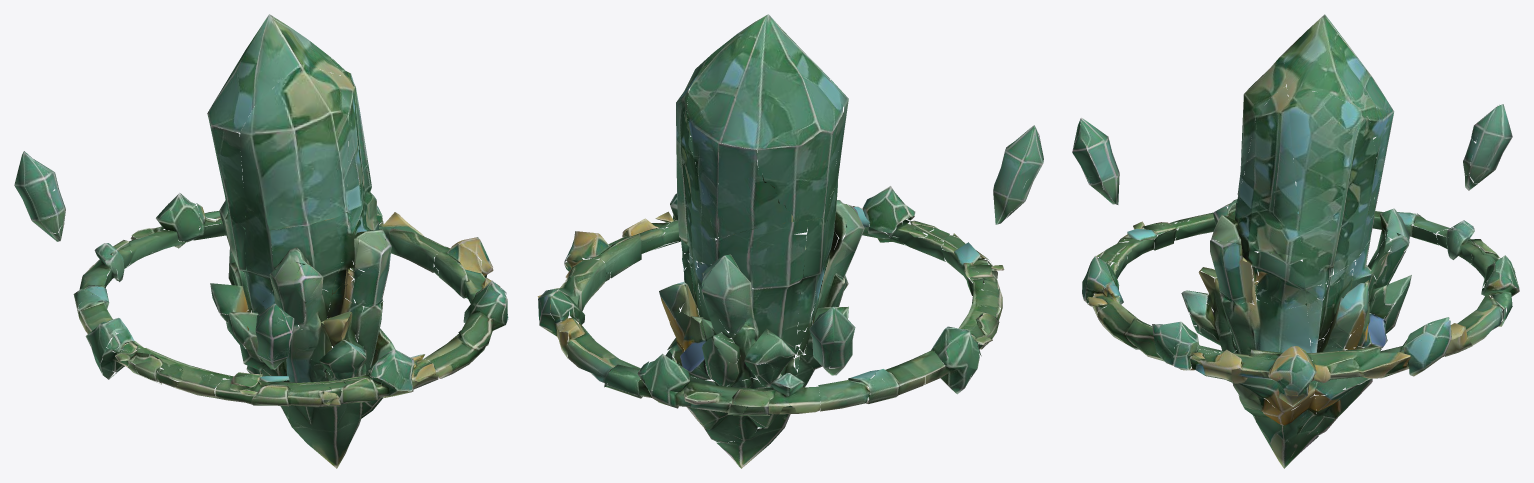
The model's file is cristal-ancora-verde.glb.
3 renders of one model, left to right at view 1: azimuth 30°, elevation 25°; view 2: azimuth 150°, elevation 25°; view 3: azimuth 270°, elevation 25°, orthographic. The views are drawn at different scales.
Parts seen in each view (by area): view 1: tripo_node_fd50cc10-e351-420a-8924-22845b8b6e25; view 2: tripo_node_fd50cc10-e351-420a-8924-22845b8b6e25; view 3: tripo_node_fd50cc10-e351-420a-8924-22845b8b6e25.
Part boxes in pixels (x1,y1,x2,y2): tripo_node_fd50cc10-e351-420a-8924-22845b8b6e25: (14,14,508,468); tripo_node_fd50cc10-e351-420a-8924-22845b8b6e25: (537,14,1043,468); tripo_node_fd50cc10-e351-420a-8924-22845b8b6e25: (1072,14,1519,468).
Bounding box in the file's own units: 0.8908 × 1 × 0.9384.
Materials: 1 (1 with a texture image).
